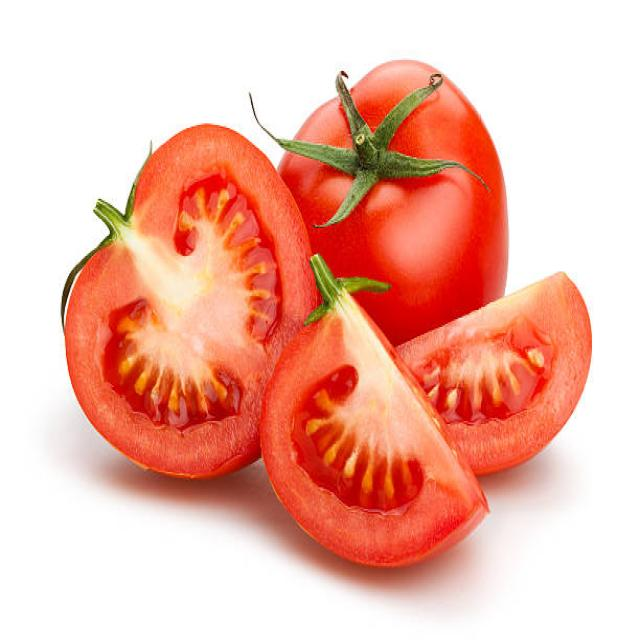Tomato: (55, 107, 310, 478), (267, 226, 479, 573), (404, 256, 608, 481)
